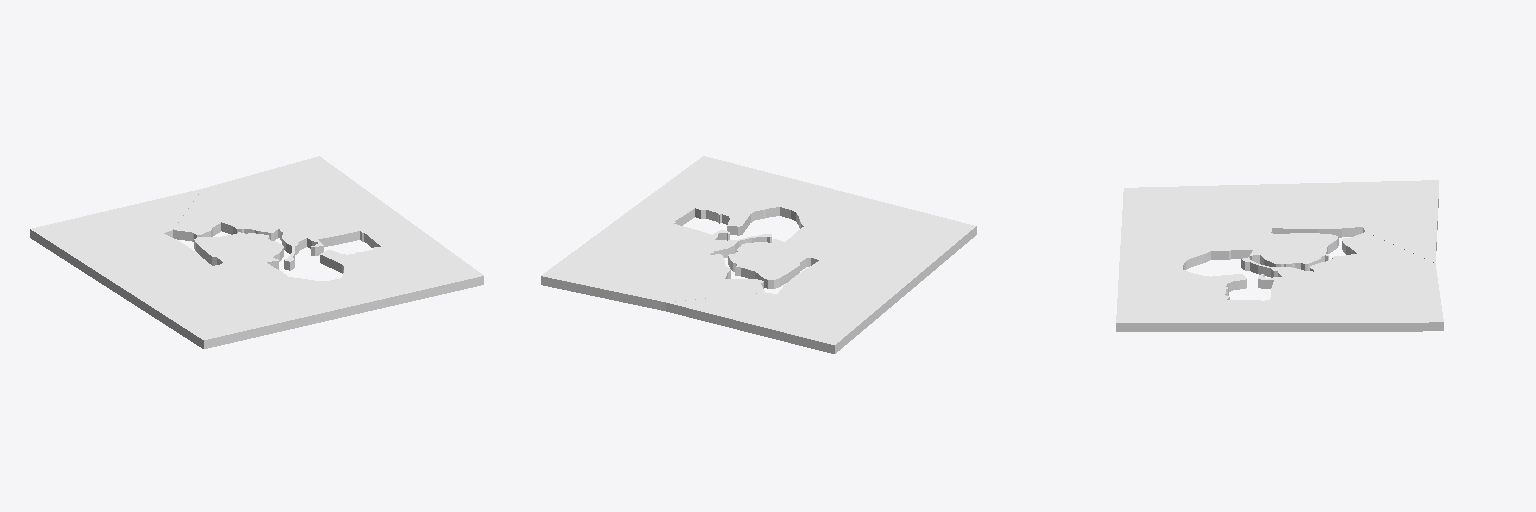
File: Level06Border01.obj
The picture shows the model from 3 angles: view 1: azimuth 30°, elevation 25°; view 2: azimuth 150°, elevation 25°; view 3: azimuth 270°, elevation 25°; orthographic projection.
Parts seen in each view (by area): view 1: Level06Border01; view 2: Level06Border01; view 3: Level06Border01.
Boxes of the visible parts, x1,y1,x2,y2 form: Level06Border01: [30, 156, 483, 348]; Level06Border01: [541, 156, 976, 353]; Level06Border01: [1116, 180, 1443, 331].
Size of the model in its own units: 170 by 5 by 165.